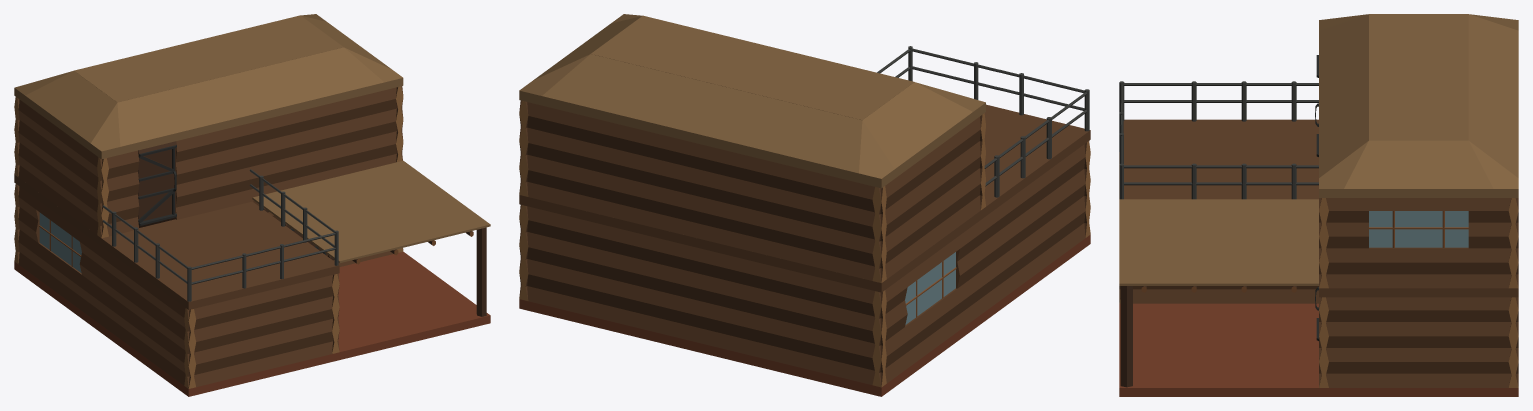
Rendered from casa 2.fbx.
3 renders of one model, left to right at view 1: azimuth 30°, elevation 25°; view 2: azimuth 150°, elevation 25°; view 3: azimuth 270°, elevation 25°, orthographic. The views are drawn at different scales.
Visible parts, largest first — view 1: Cube.137; view 2: Cube.137; view 3: Cube.137.
Boxes of the visible parts, x1,y1,x2,y2 form: Cube.137: (14, 14, 490, 396); Cube.137: (519, 14, 1090, 396); Cube.137: (1119, 14, 1518, 396).
Bounding box in the file's own units: 1600 × 1041 × 1600.
